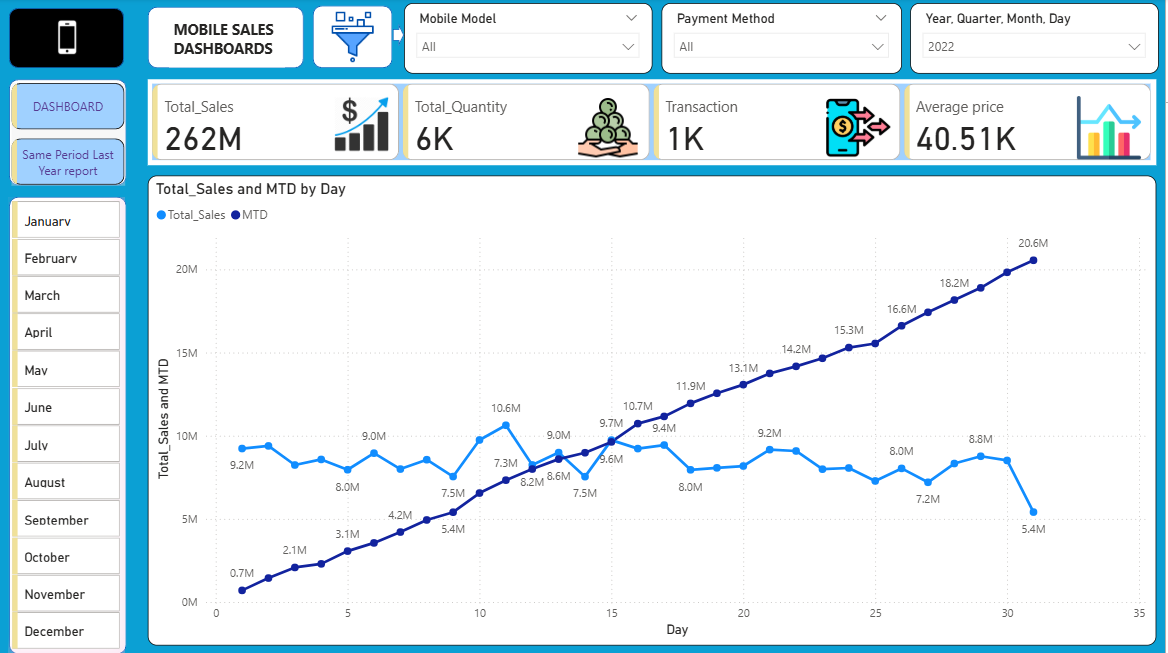

This screenshot's page, from the dashboard's own definition file:
{"tool":"powerbi","page":{"name":"MTD report","canvas":[1280,720],"ordinal":1},"visuals":[{"type":"shape","box":[11,11,126.2,65.9],"z":0},{"type":"shape","box":[11,89.2,129,116.6],"z":1000},{"type":"image","box":[39.8,9.6,70,67.2],"z":2000},{"type":"cardVisual","fields":{"Data":["Sales_data.Total_Sales","Sales_data.Total_Quantity","Custom_Calendar.Transaction","Sales_data.Average price"]},"box":[163.3,89.2,1107.4,94.7],"z":3000},{"type":"slicer","fields":{"Values":["Sales_data.Mobile Model"]},"box":[445,5,272.5,77.5],"z":4000},{"type":"slicer","fields":{"Values":["Sales_data.Payment Method"]},"box":[727.5,5,263.8,77.5],"z":5000},{"type":"slicer","fields":{"Values":["Custom_Calendar.Date.Variation.Date Hierarchy.Year","Custom_Calendar.Date.Variation.Date Hierarchy.Quarter","Custom_Calendar.Date.Variation.Date Hierarchy.Month","Custom_Calendar.Date.Variation.Date Hierarchy.Day"]},"box":[1000,5,272.5,77.5],"z":6000},{"type":"shape","box":[345,8.8,87.5,68.8],"z":7000},{"type":"image","box":[313.8,10,148.8,66.2],"z":8000},{"type":"shape","box":[432.5,27.5,12.5,26.2],"z":9000},{"type":"shape","box":[163.8,10,171.2,67.5],"z":10000},{"type":"textbox","box":[186.2,17.5,127.5,58.8],"z":11000},{"type":"lineChart","fields":{"Category":["Custom_Calendar.Date.Variation.Date Hierarchy.Day"],"Y":["Sales_data.Total_Sales","Sales_data.MTD"]},"box":[163.3,194.9,1107.4,516],"z":12000},{"type":"shape","box":[11,218.2,129,502.2],"z":13000},{"type":"advancedSlicerVisual","fields":{"Values":["Custom_Calendar.Date.Variation.Date Hierarchy.Month"]},"box":[9.6,218.2,129,502.2],"z":14000},{"type":"pageNavigator","box":[13.7,93.3,124.9,112.5],"z":15000}]}

Visuals, with their boxes in screenshot pixels (x1, y1, x2, y2), scaled from the page's 1280x720 canvas onto the 1168x653 screenshot:
shape: [x1=10, y1=10, x2=125, y2=70]
shape: [x1=10, y1=81, x2=128, y2=187]
image: [x1=36, y1=9, x2=100, y2=70]
cardVisual - Sales_data.Total_Sales x Sales_data.Total_Quantity: [x1=149, y1=81, x2=1160, y2=167]
slicer - Sales_data.Mobile Model: [x1=406, y1=5, x2=655, y2=75]
slicer - Sales_data.Payment Method: [x1=664, y1=5, x2=905, y2=75]
slicer - Custom_Calendar.Date.Variation.Date Hierarchy.Year x Custom_Calendar.Date.Variation.Date Hierarchy.Quarter: [x1=912, y1=5, x2=1161, y2=75]
shape: [x1=315, y1=8, x2=395, y2=70]
image: [x1=286, y1=9, x2=422, y2=69]
shape: [x1=395, y1=25, x2=406, y2=49]
shape: [x1=149, y1=9, x2=306, y2=70]
textbox: [x1=170, y1=16, x2=286, y2=69]
lineChart - Custom_Calendar.Date.Variation.Date Hierarchy.Day x Sales_data.Total_Sales: [x1=149, y1=177, x2=1160, y2=645]
shape: [x1=10, y1=198, x2=128, y2=652]
advancedSlicerVisual - Custom_Calendar.Date.Variation.Date Hierarchy.Month: [x1=9, y1=198, x2=126, y2=652]
pageNavigator: [x1=13, y1=85, x2=126, y2=187]
